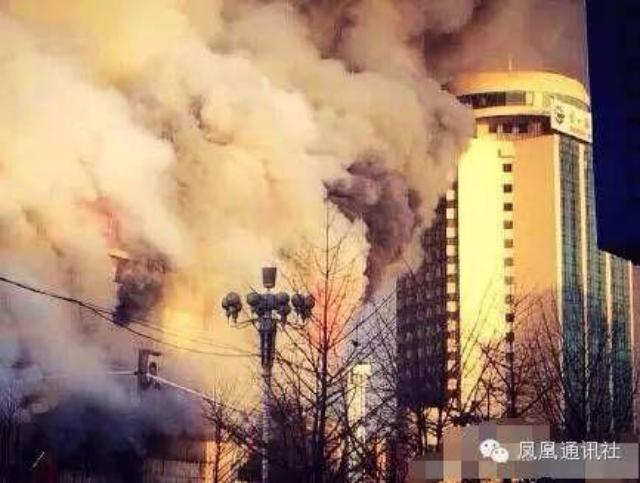smoke: (2, 12, 304, 173), (5, 179, 129, 424), (316, 3, 470, 171), (130, 293, 258, 424), (264, 170, 398, 285), (142, 173, 260, 294)
